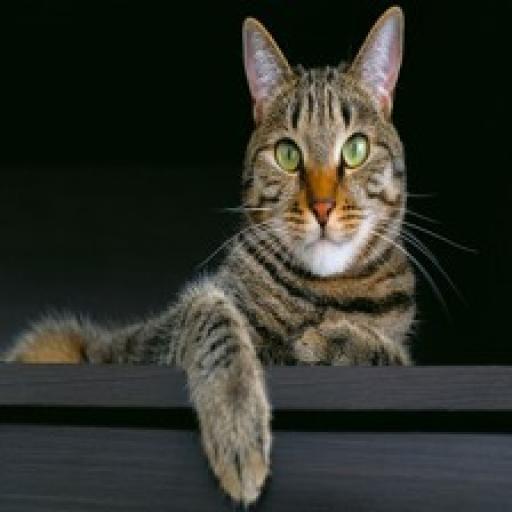cat: (0, 0, 448, 505)
